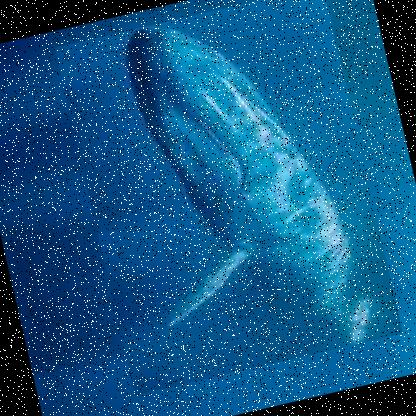blue_whale: (54, 0, 404, 396)
